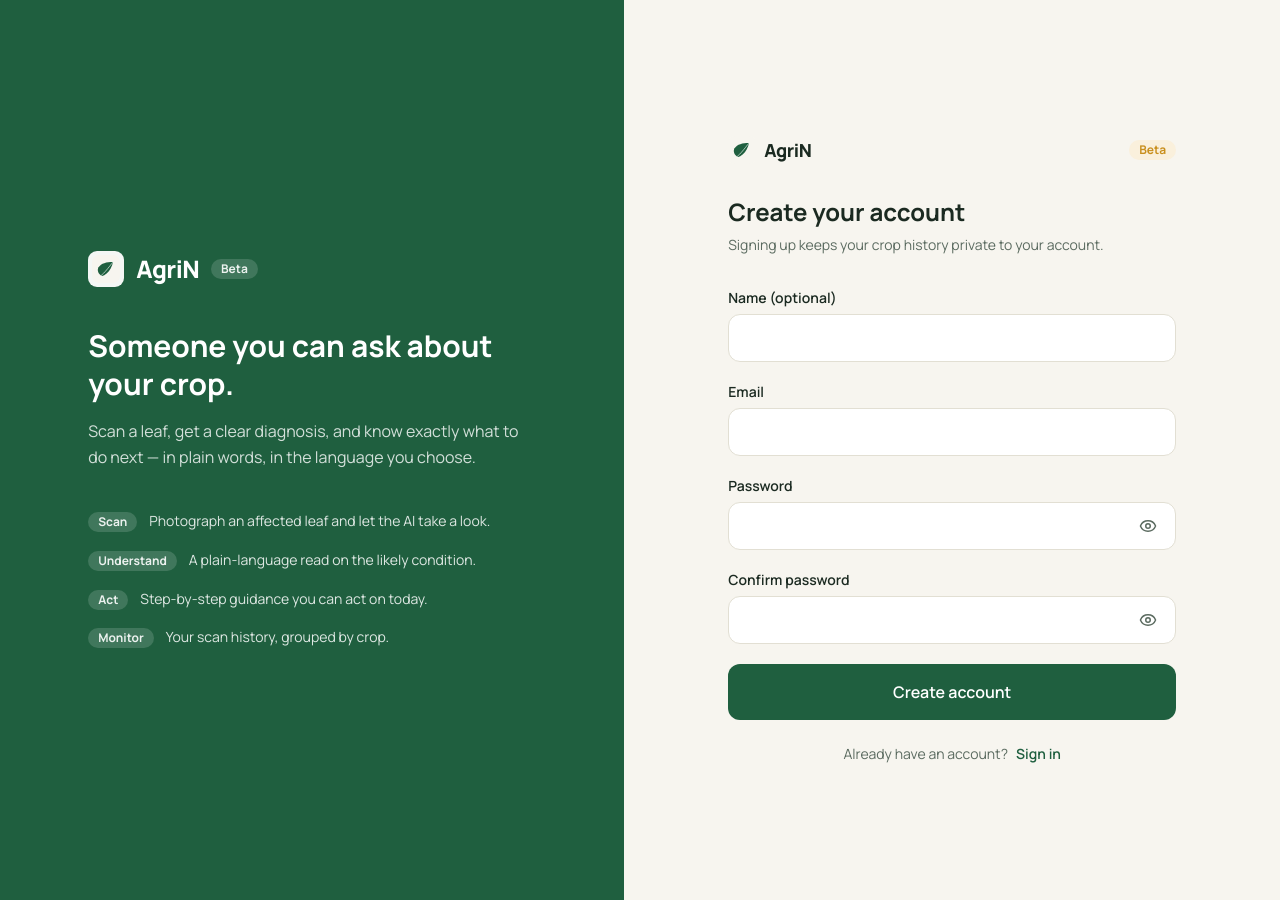
Scenario: AuthPage — sign up › requires a valid email and matching password of at least 8 characters
In the field labelled "Email": point(952, 432) left=728, top=408, right=1176, bottom=456, type "not-an-email"
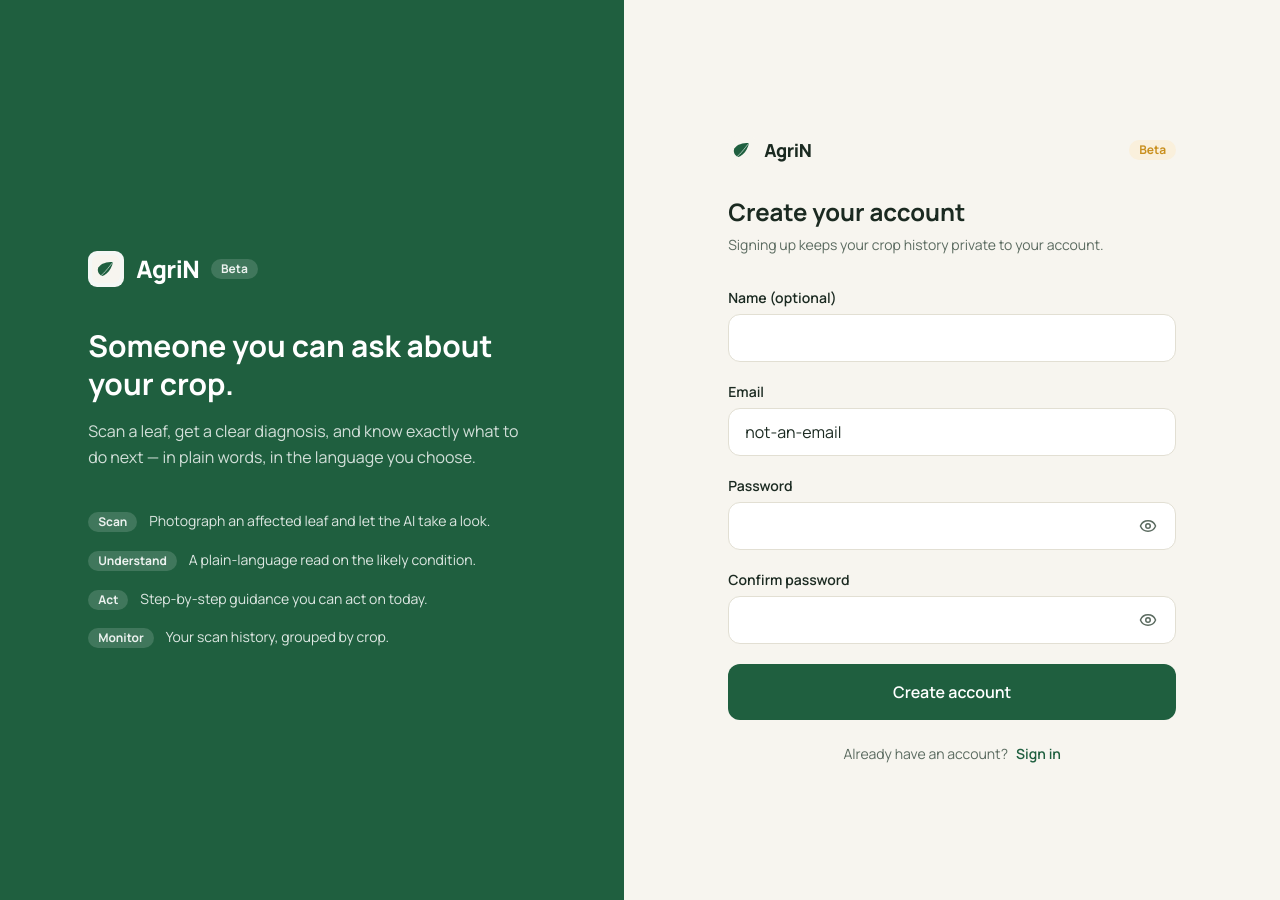
In the password field labelled "Password": point(952, 526) left=728, top=502, right=1176, bottom=550, type "short"
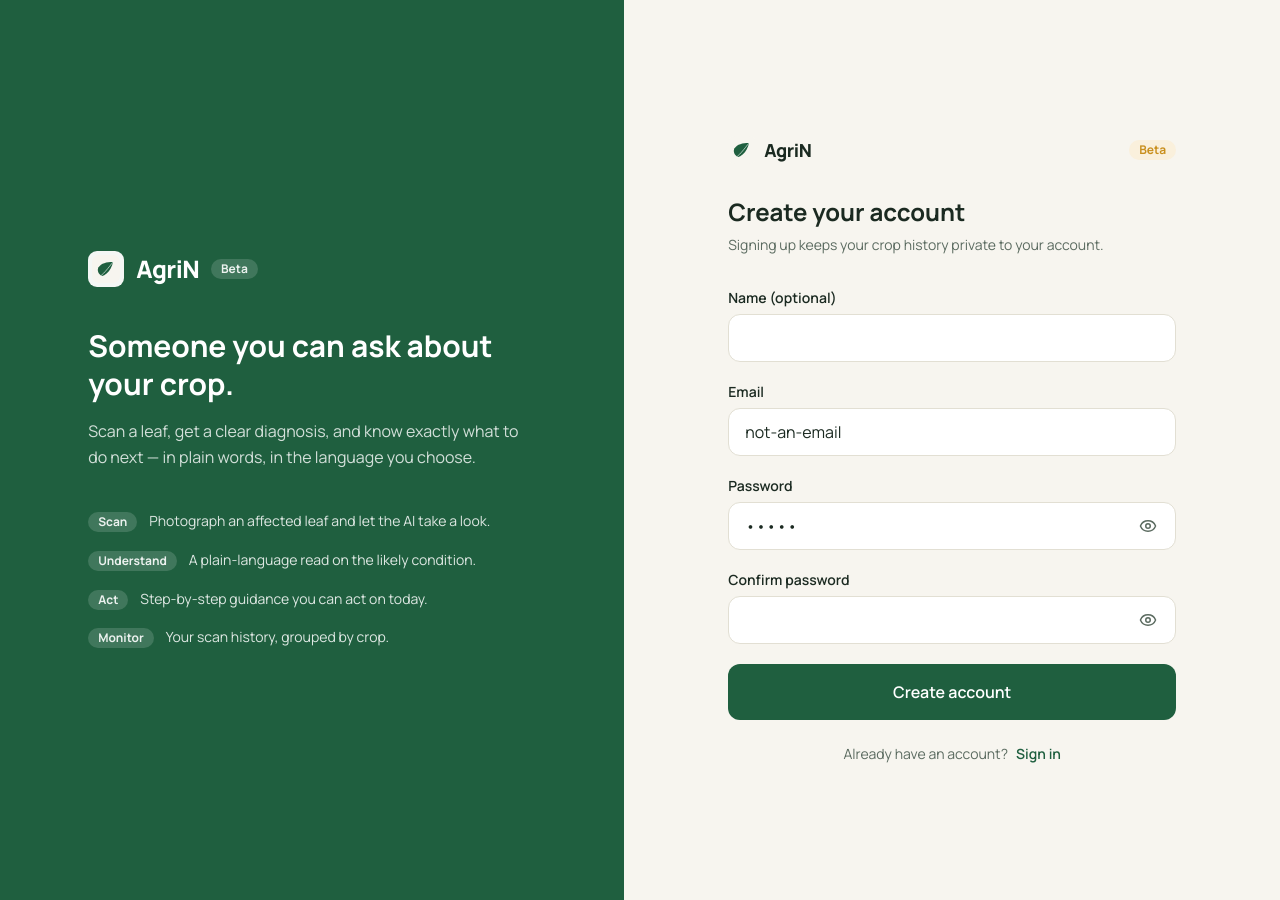
In the password field labelled "Confirm password": point(952, 620) left=728, top=596, right=1176, bottom=644, type "different"
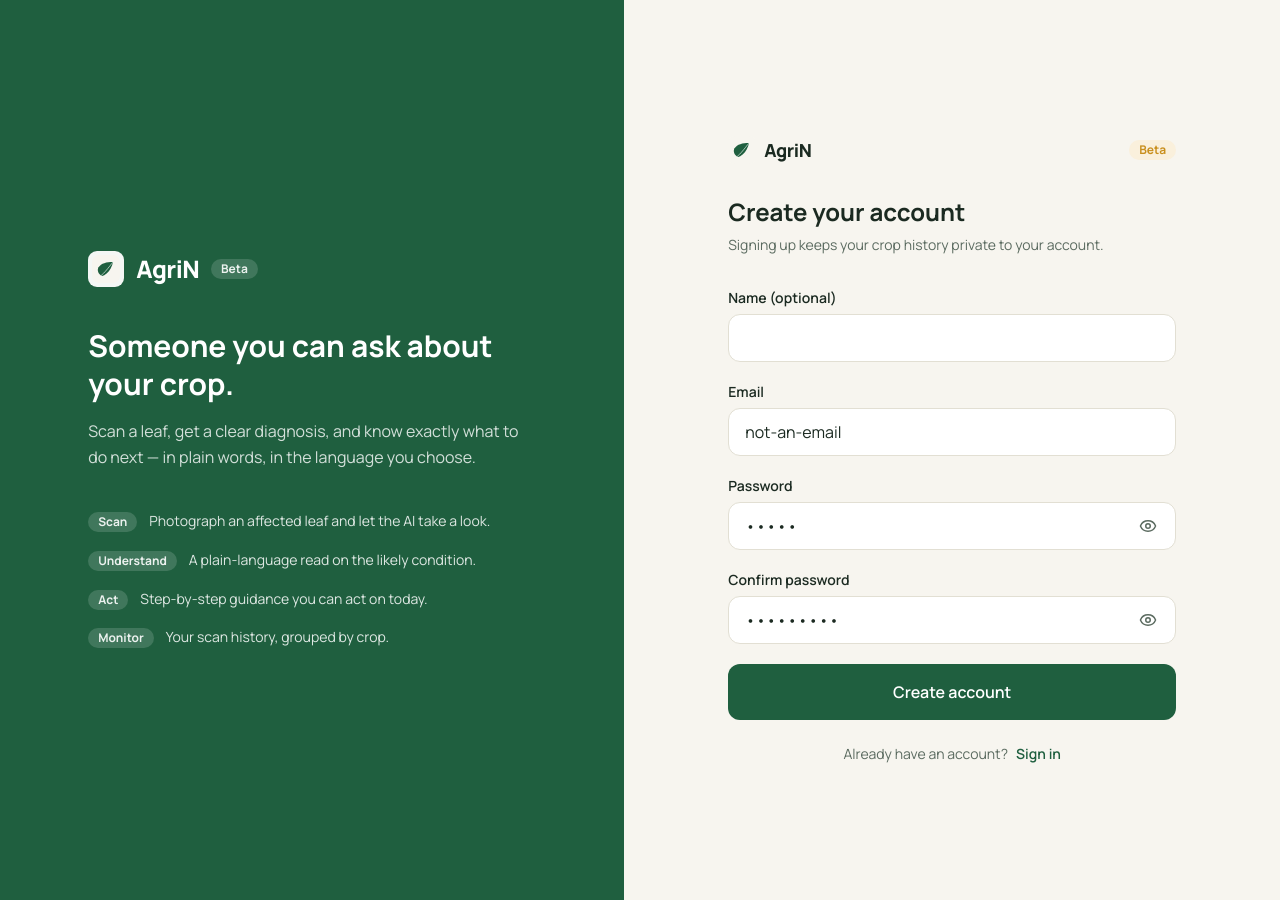
Click the button "Create account": point(952, 692) left=728, top=664, right=1176, bottom=720
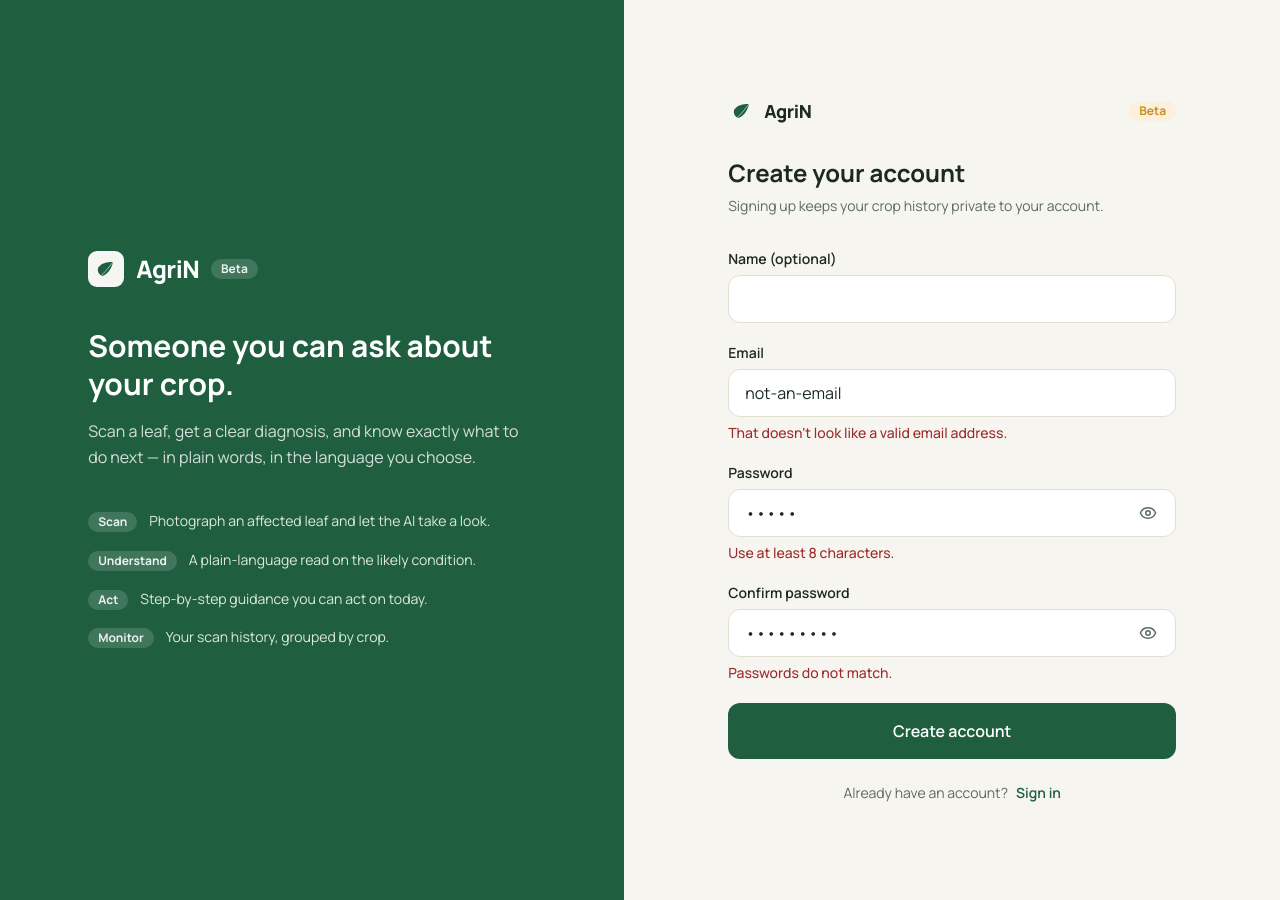
Now the text "That doesn’t look like a valid email address." is shown, box left=728, top=423, right=1007, bottom=442
Now the text "Use at least 8 characters." is shown, box left=728, top=543, right=894, bottom=562
Now the text "Passwords do not match." is shown, box left=728, top=663, right=892, bottom=682
